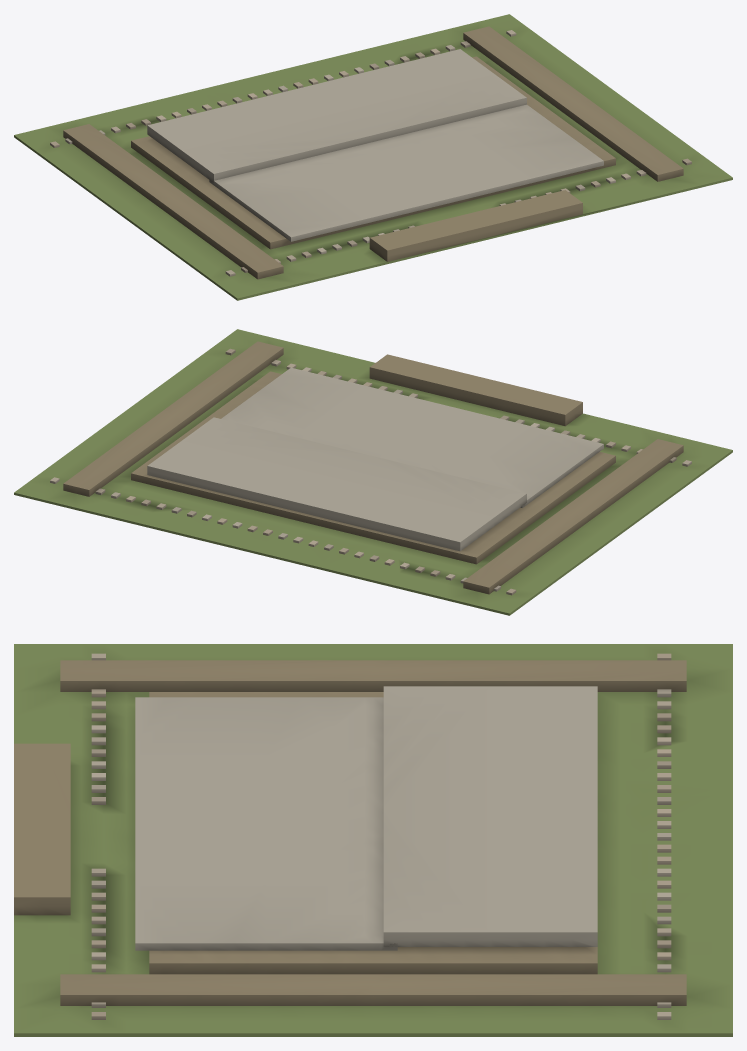
The model's file is 01_terrain.glb.
3 renders of one model, top to bottom at view 1: azimuth 30°, elevation 25°; view 2: azimuth 150°, elevation 25°; view 3: azimuth 270°, elevation 25°, orthographic. The views are drawn at different scales.
Visible parts, largest first — view 1: 01_terrain_paving, 01_terrain_grass, 01_terrain_earth, 01_terrain_ashlar_nocol; view 2: 01_terrain_paving, 01_terrain_grass, 01_terrain_earth, 01_terrain_ashlar_nocol; view 3: 01_terrain_paving, 01_terrain_grass, 01_terrain_earth, 01_terrain_ashlar_nocol.
Part boxes in pixels (x1,y1,x2,y2): 01_terrain_paving: (147, 49, 603, 241); 01_terrain_grass: (14, 14, 732, 300); 01_terrain_earth: (63, 26, 683, 279); 01_terrain_ashlar_nocol: (50, 30, 691, 276); 01_terrain_paving: (147, 367, 603, 551); 01_terrain_grass: (14, 329, 732, 615); 01_terrain_earth: (63, 341, 683, 594); 01_terrain_ashlar_nocol: (50, 348, 691, 595); 01_terrain_paving: (135, 686, 597, 950); 01_terrain_grass: (14, 644, 732, 1036); 01_terrain_earth: (14, 660, 686, 1005); 01_terrain_ashlar_nocol: (91, 653, 671, 1019).
Bounding box in the file's own units: 456 × 18 × 356.
